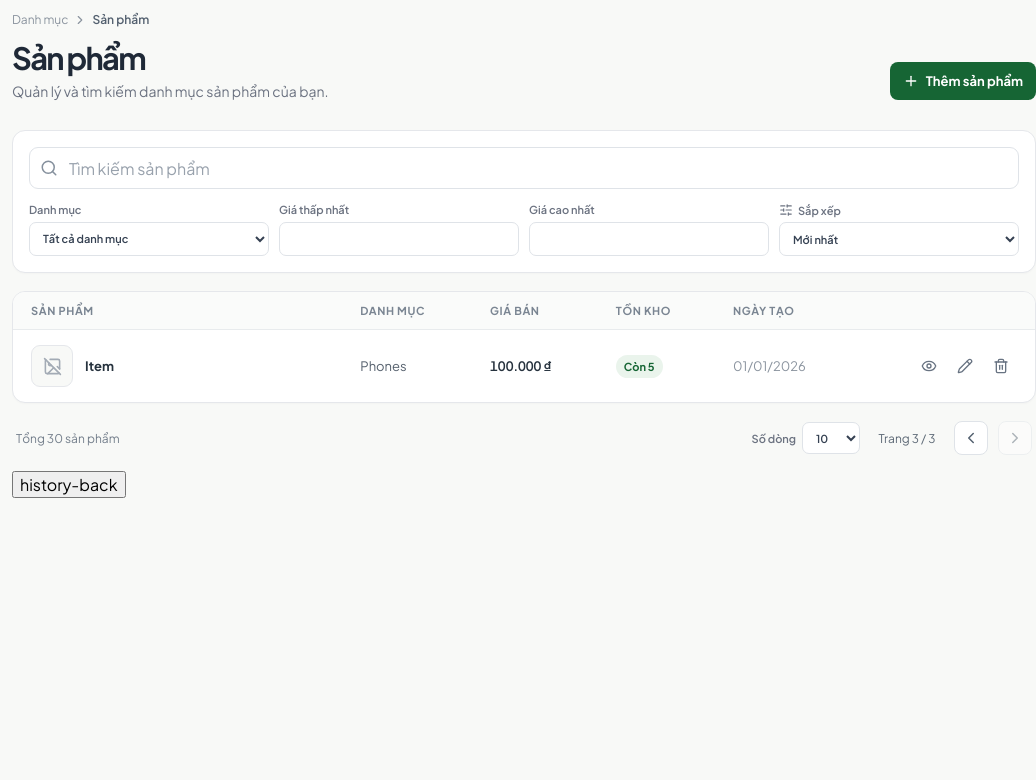
Test: Clear filters on the admin products › only shows the button while at least one filter is on
Check: the text "Item" is shown, box [85, 358, 114, 374]
Check: the button "Xóa bộ lọc" is not shown
Select "Phones" in the dropdown labelled "Danh mục" at (149, 239), box [29, 222, 269, 256]
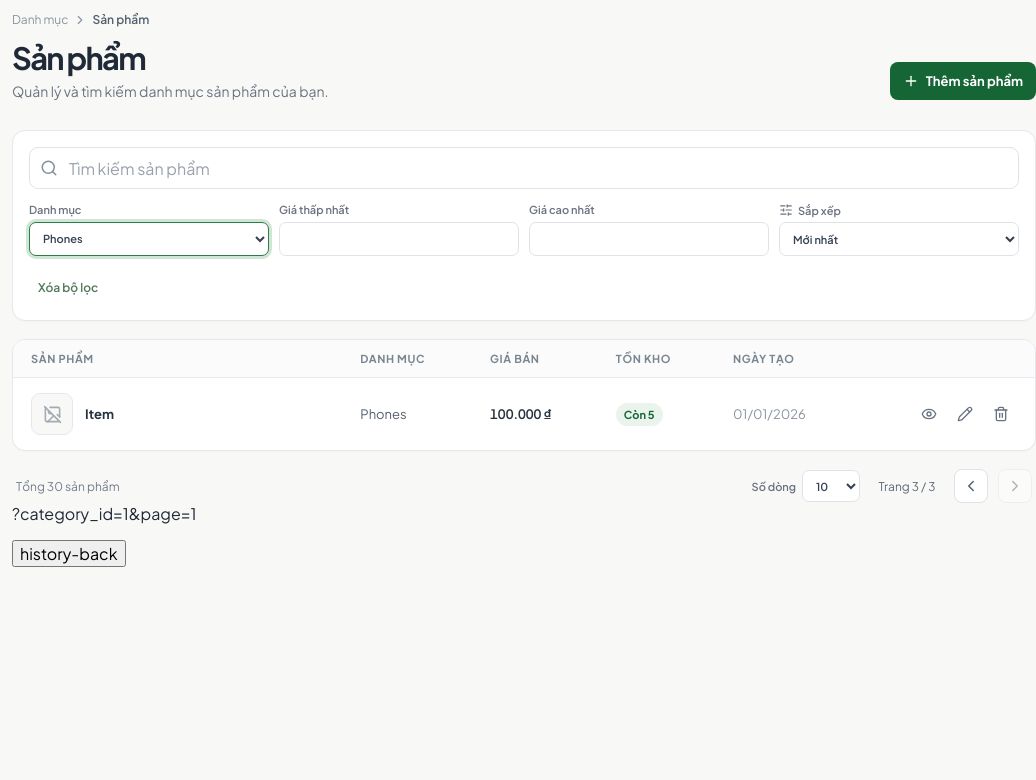
Check: the button "Xóa bộ lọc" is shown
Click the button "Xóa bộ lọc".
click(68, 287)  # box [29, 270, 107, 304]
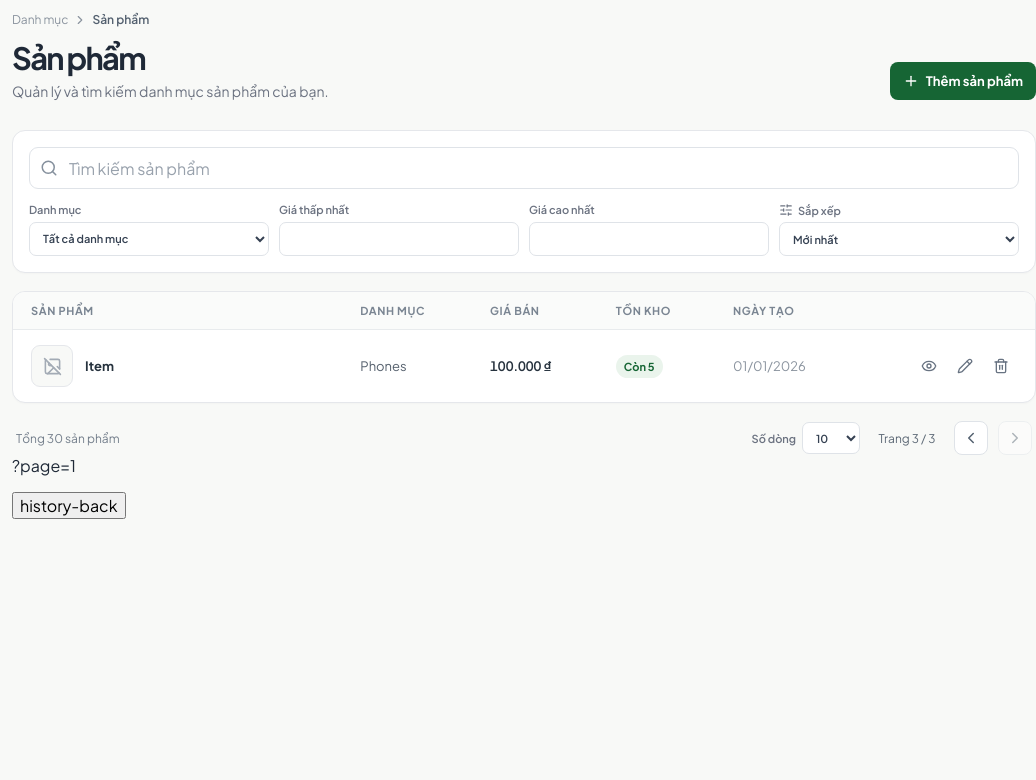
Check: the button "Xóa bộ lọc" is gone
